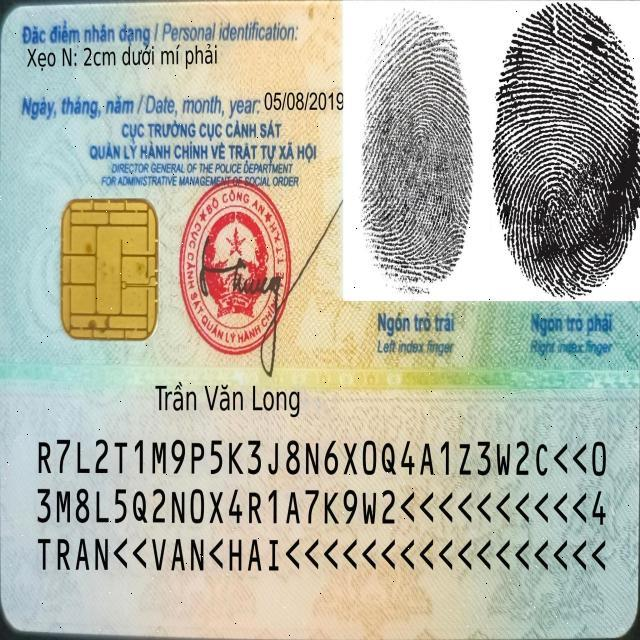features: (24, 40, 224, 76)
finger_print: (491, 1, 640, 368), (340, 0, 486, 364)
issue_date: (262, 88, 345, 115)
